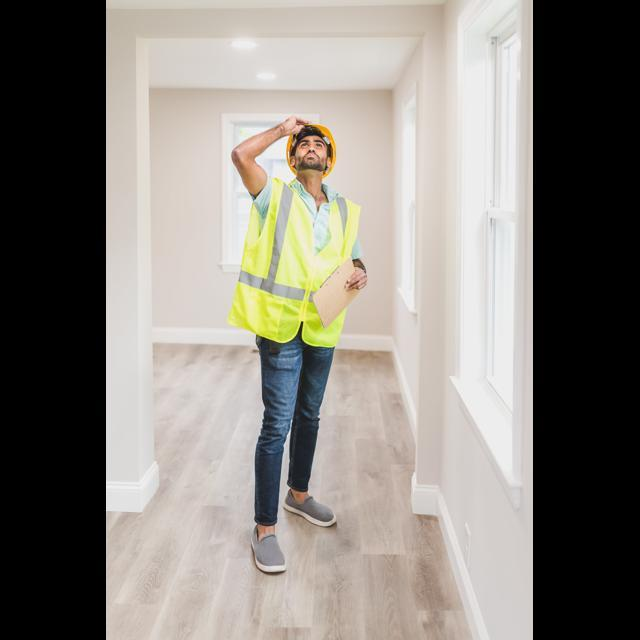Hardhat: (276, 117, 335, 175)
Person: (200, 51, 390, 595)
Vest: (242, 175, 361, 357)
